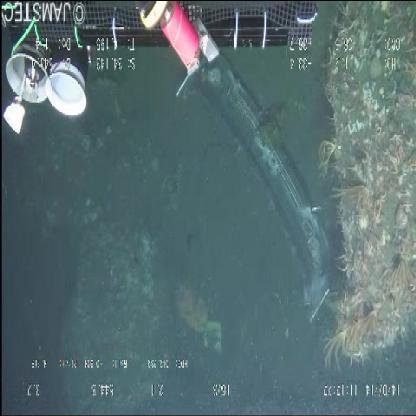Rov: (0, 6, 330, 143)
Rác: (171, 69, 334, 325)
